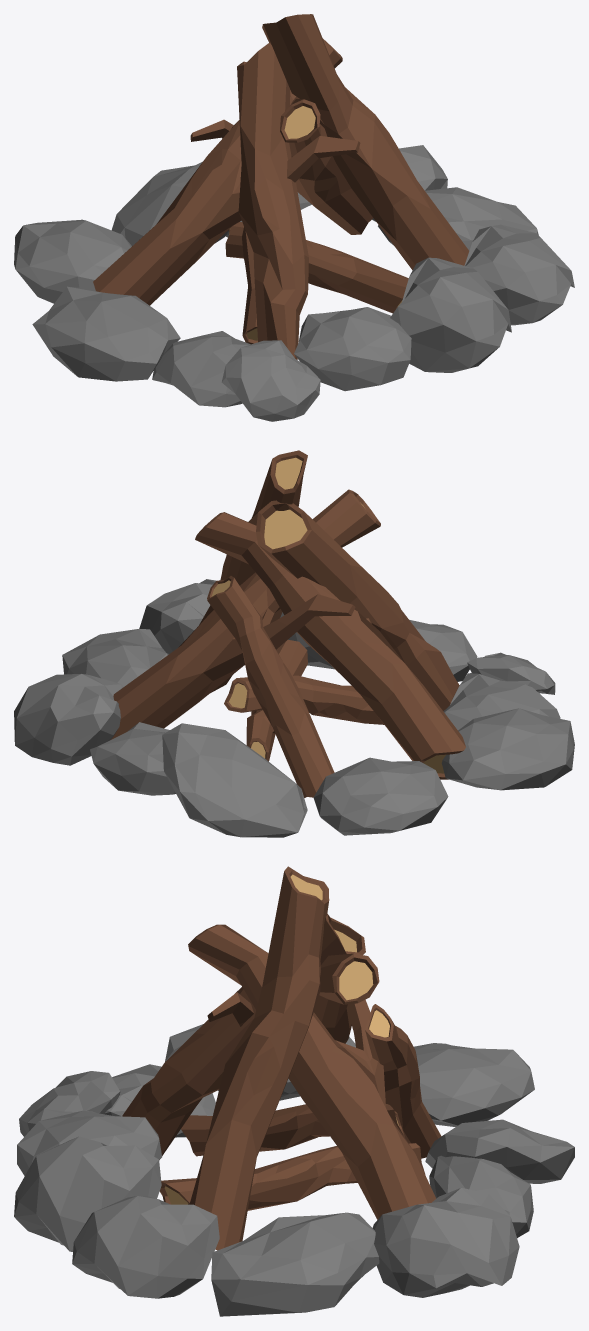
Rendered from Campfire.fbx.
The picture shows the model from 3 angles, top to bottom: view 1: azimuth 30°, elevation 25°; view 2: azimuth 150°, elevation 25°; view 3: azimuth 270°, elevation 25°; orthographic projection. The views are drawn at different scales.
Parts seen in each view (by area): view 1: Campfire; view 2: Campfire; view 3: Campfire.
Boxes of the visible parts, left/top/right/bottom form: Campfire: left=14, top=14, right=574, bottom=421; Campfire: left=14, top=450, right=574, bottom=837; Campfire: left=14, top=866, right=574, bottom=1316.
Size of the model in its own units: 164 by 95.35 by 144.
4 materials, 4 textured.
